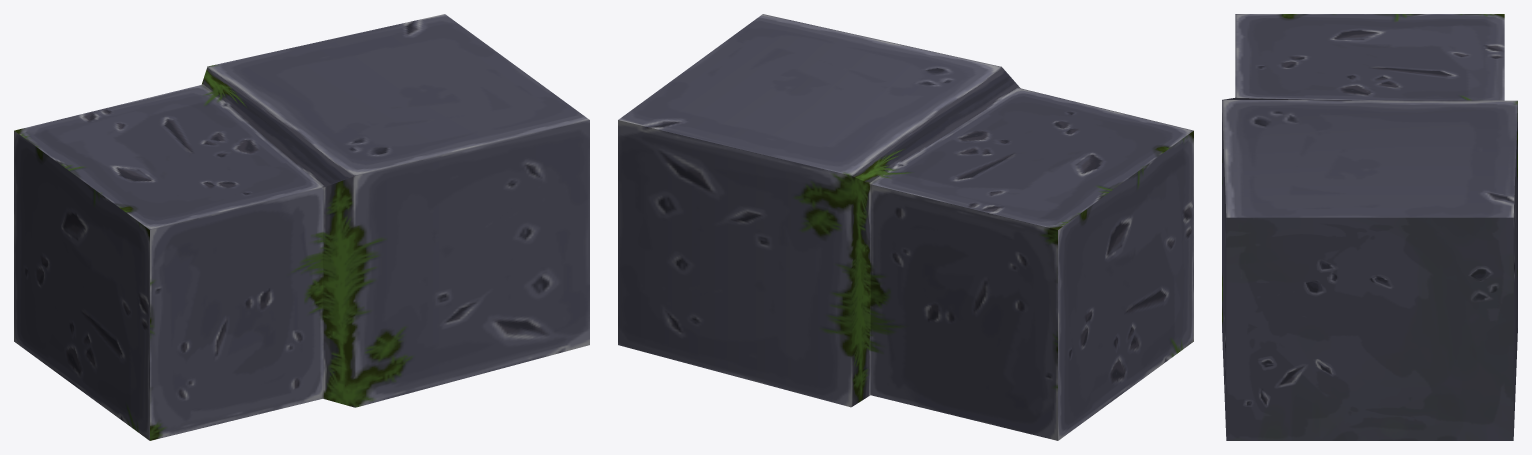
The model's file is MOD_WallCover_01_M_straight_edge_R.fbx.
3 views of the same model, side by side, from view 1: azimuth 30°, elevation 25°; view 2: azimuth 150°, elevation 25°; view 3: azimuth 270°, elevation 25° (orthographic).
Parts seen in each view (by area): view 1: MOD_WallCover_01_M_straight_edge_R; view 2: MOD_WallCover_01_M_straight_edge_R; view 3: MOD_WallCover_01_M_straight_edge_R.
Part boxes in pixels (x1,y1,x2,y2): MOD_WallCover_01_M_straight_edge_R: (14, 14, 589, 440); MOD_WallCover_01_M_straight_edge_R: (618, 14, 1193, 440); MOD_WallCover_01_M_straight_edge_R: (1222, 14, 1517, 440).
Size of the model in its own units: 130 by 65.92 by 76.9.
